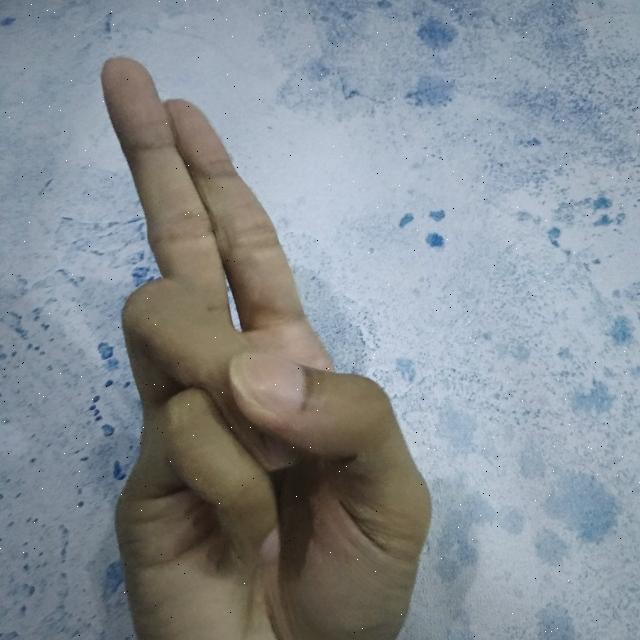U: (91, 52, 446, 640)
